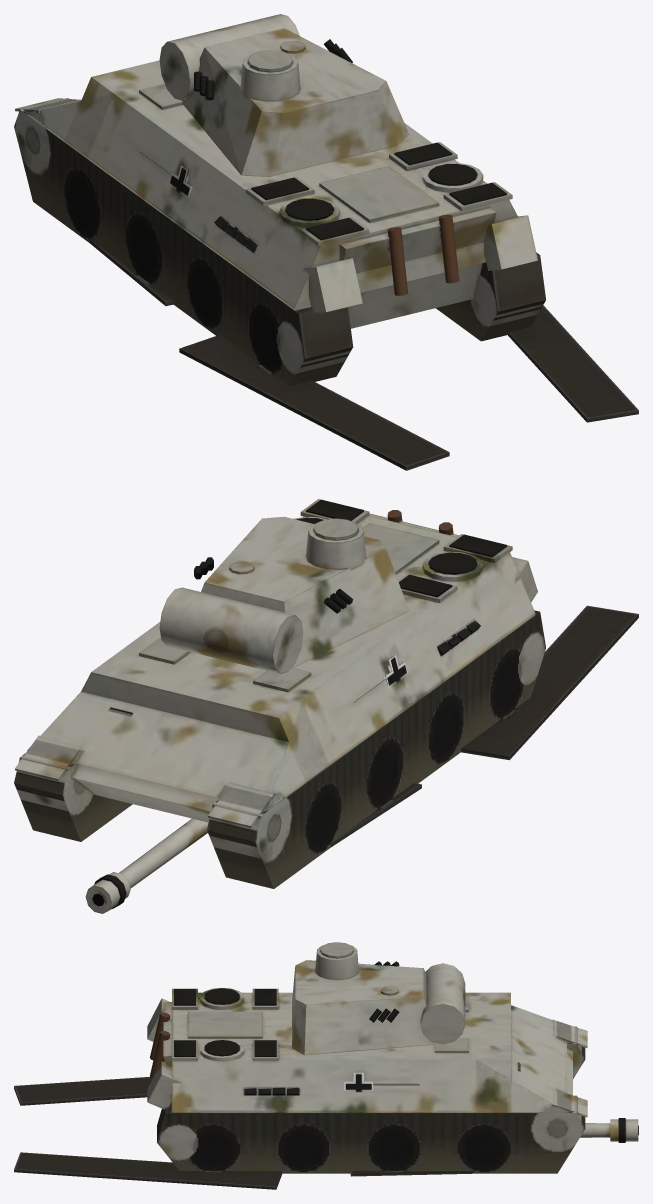
Rendered from pantherD_winter.glb.
3 views of the same model, one above another, from view 1: azimuth 30°, elevation 25°; view 2: azimuth 150°, elevation 25°; view 3: azimuth 270°, elevation 25° (orthographic). The views are drawn at different scales.
Parts seen in each view (by area): view 1: hull_ok, turret_ok, hull_trackL, hull_trackR; view 2: hull_ok, turret_ok, hull_trackL, gun_ok; view 3: hull_ok, turret_ok, hull_trackR, hull_trackL, gun_ok.
Part boxes in pixels (x1,y1,x2,y2): hull_ok: (14, 60, 545, 385); turret_ok: (159, 14, 409, 176); hull_trackL: (89, 240, 449, 470); hull_trackR: (507, 305, 638, 422); hull_ok: (14, 499, 545, 888); turret_ok: (159, 516, 409, 673); hull_trackL: (331, 605, 638, 847); gun_ok: (85, 818, 208, 913); hull_ok: (147, 988, 587, 1173); turret_ok: (292, 942, 465, 1055); hull_trackR: (14, 1152, 473, 1189); hull_trackL: (14, 1077, 152, 1105); gun_ok: (580, 1118, 638, 1142).
Bounding box in the file's own units: 4.52 × 3.44 × 10.06.
Materials: 11 (11 with a texture image).
